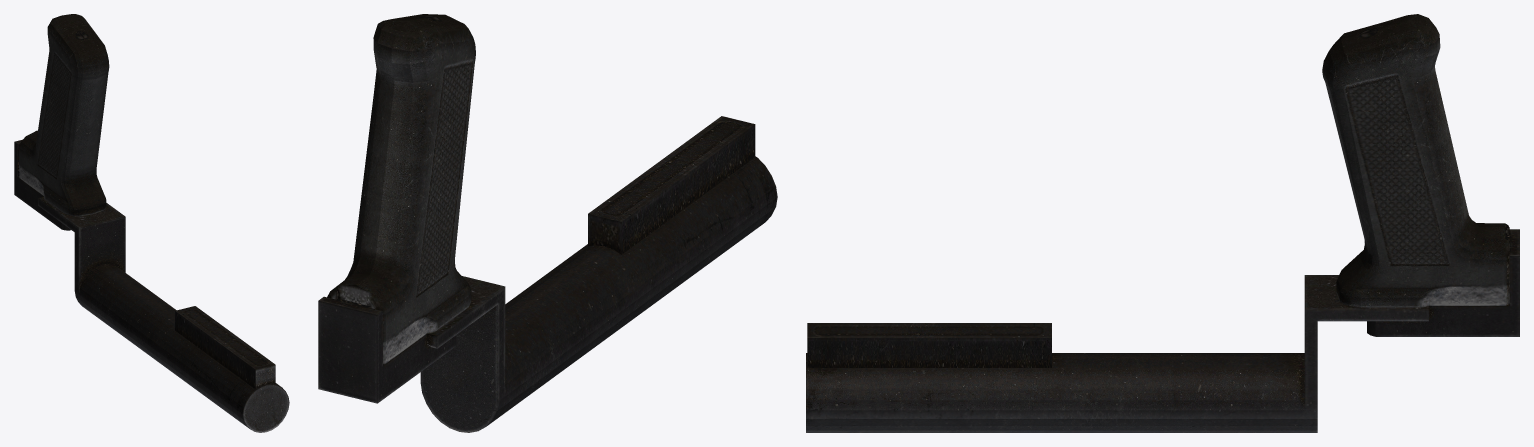
The picture shows the model from 3 angles, left to right: view 1: azimuth 30°, elevation 25°; view 2: azimuth 150°, elevation 25°; view 3: azimuth 270°, elevation 25°; orthographic projection. The views are drawn at different scales.
Visible parts, largest first — view 1: TW_5a69a2ed8dc32e000d46d1f1_PZ_Import; view 2: TW_5a69a2ed8dc32e000d46d1f1_PZ_Import; view 3: TW_5a69a2ed8dc32e000d46d1f1_PZ_Import.
Part boxes in pixels (box(x1,y1,x2,y2)): TW_5a69a2ed8dc32e000d46d1f1_PZ_Import: box(14, 14, 289, 432); TW_5a69a2ed8dc32e000d46d1f1_PZ_Import: box(318, 14, 777, 432); TW_5a69a2ed8dc32e000d46d1f1_PZ_Import: box(806, 14, 1519, 432).
Size of the model in its own units: 0.0157 by 0.1372 by 0.0869.
Materials: 1 (1 with a texture image).
